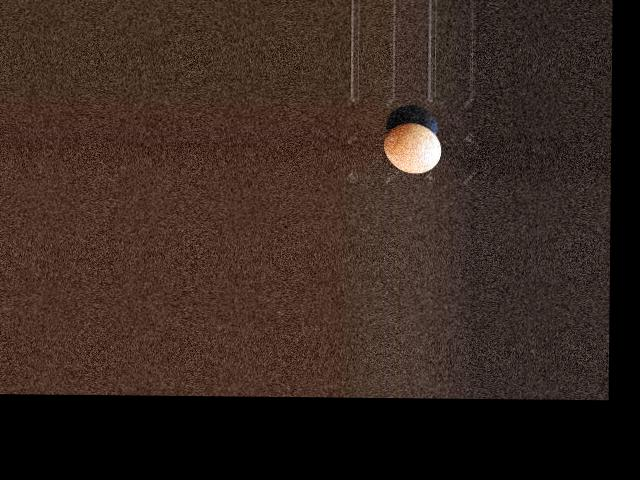egg: (383, 122, 441, 173)
